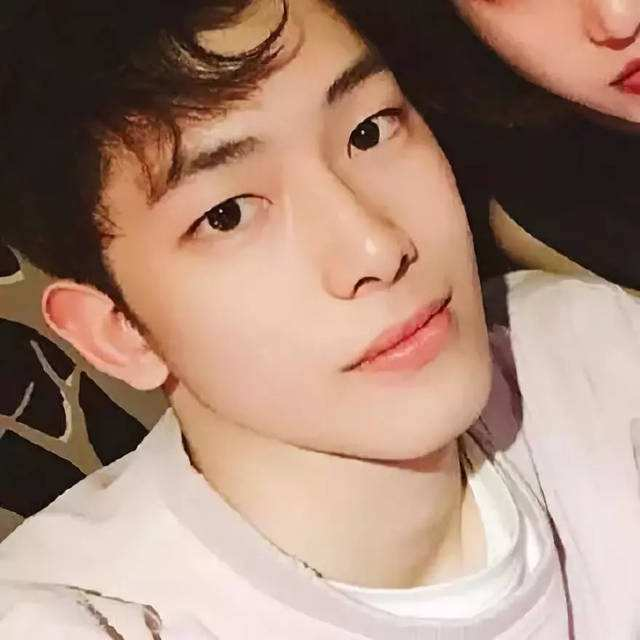person: (22, 25, 561, 492)
